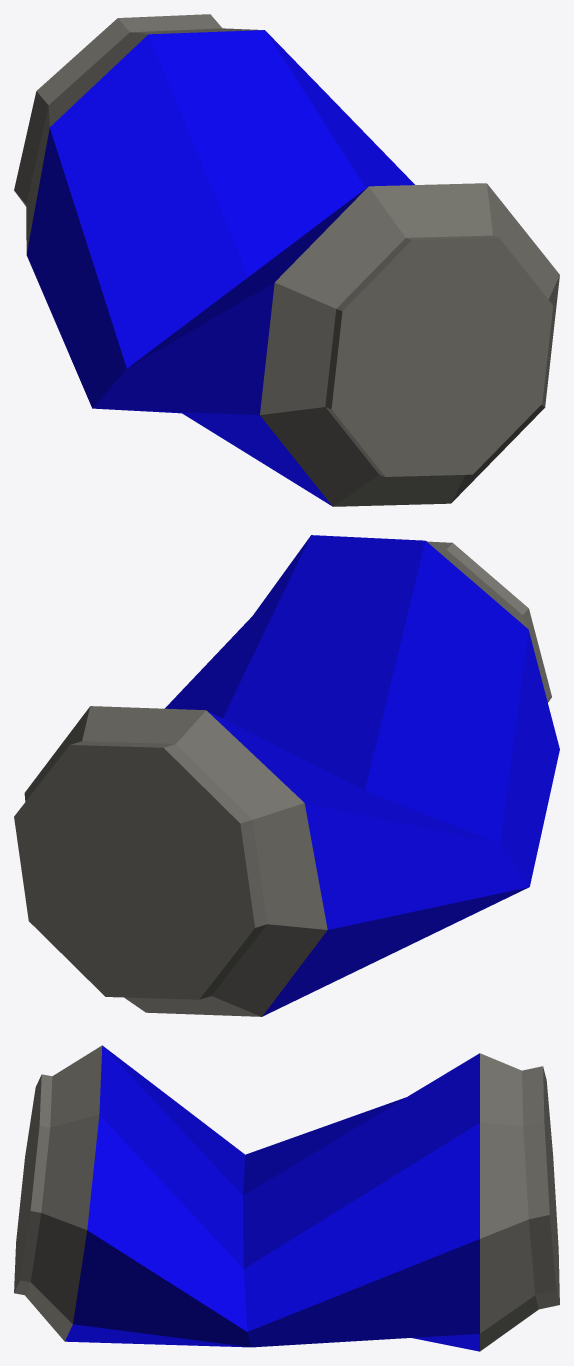
The model's file is мусор 1.fbx.
3 renders of one model, top to bottom at view 1: azimuth 30°, elevation 25°; view 2: azimuth 150°, elevation 25°; view 3: azimuth 270°, elevation 25°, orthographic. The views are drawn at different scales.
Visible parts, largest first — view 1: Окружность; view 2: Окружность; view 3: Окружность.
Part boxes in pixels (<box>): Окружность: <box>14,14,559,506</box>; Окружность: <box>14,535,559,1016</box>; Окружность: <box>14,1045,559,1351</box>.
Bounding box in the file's own units: 11.14 × 8.26 × 14.54.
Materials: 2 (1 with a texture image).
